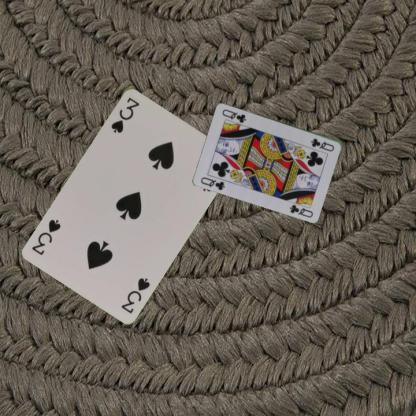3s: (118, 274, 151, 315), (108, 94, 140, 134)
Qc: (198, 174, 227, 192), (308, 136, 336, 152)
